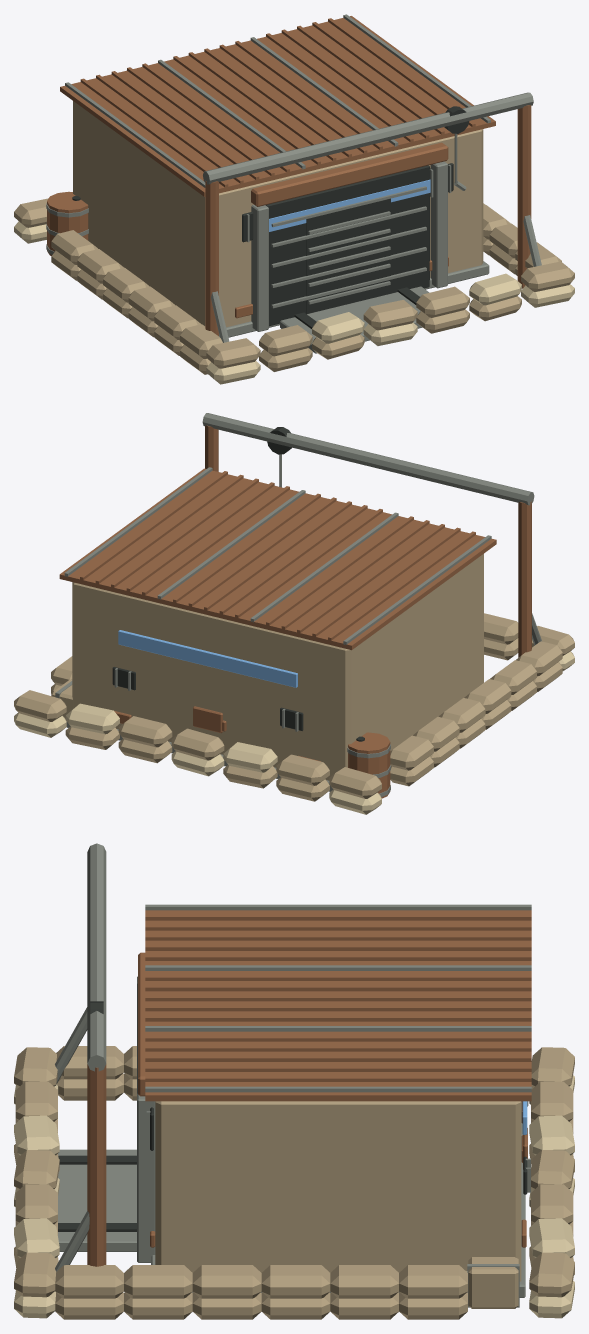
The model's file is arms_dealer.glb.
3 renders of one model, top to bottom at view 1: azimuth 30°, elevation 25°; view 2: azimuth 150°, elevation 25°; view 3: azimuth 270°, elevation 25°, orthographic. The views are drawn at different scales.
Parts seen in each view (by area): view 1: arms_dealer; view 2: arms_dealer; view 3: arms_dealer.
Part boxes in pixels (x1,y1,x2,y2): arms_dealer: (14, 14, 574, 384); arms_dealer: (14, 413, 574, 814); arms_dealer: (14, 843, 574, 1319).
Size of the model in its own units: 3.8 by 1.95 by 3.8.
